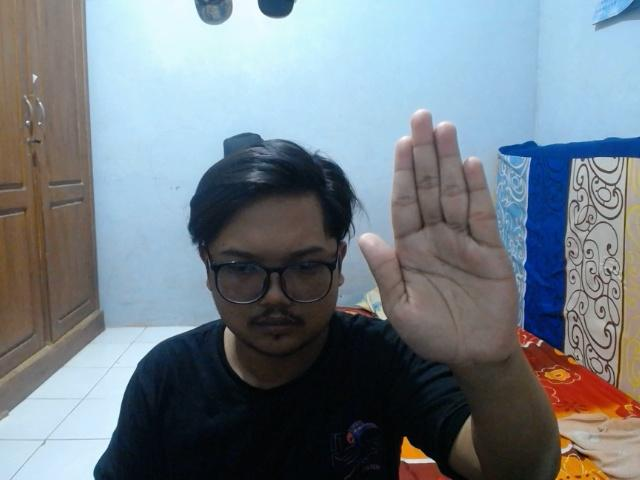Release: (357, 102, 526, 378)
